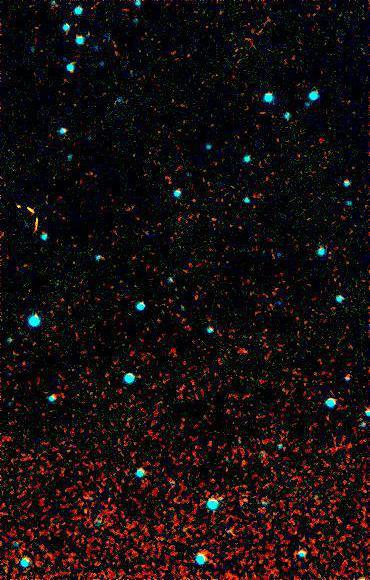star: (226, 450, 256, 480)
